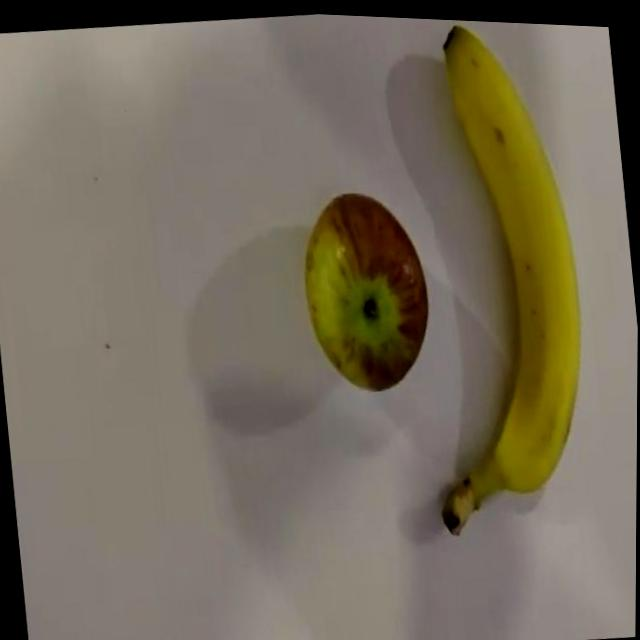Apple: (294, 179, 438, 396)
Banana: (390, 14, 604, 538)
